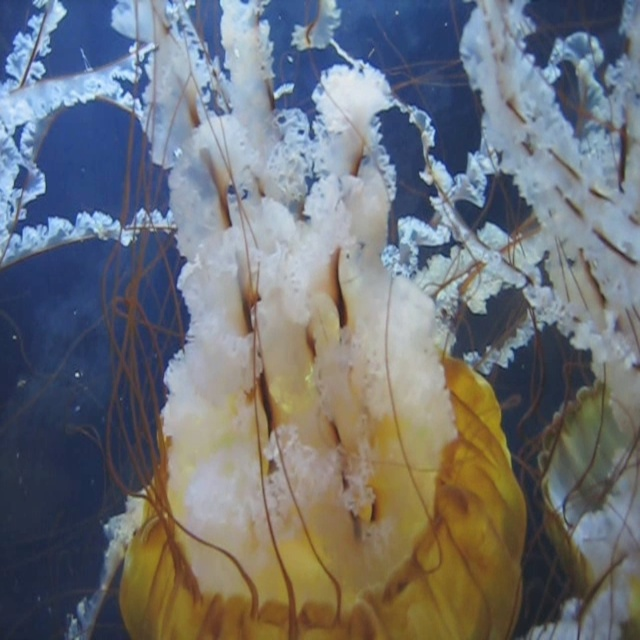Jellyfish: (48, 21, 558, 640)
